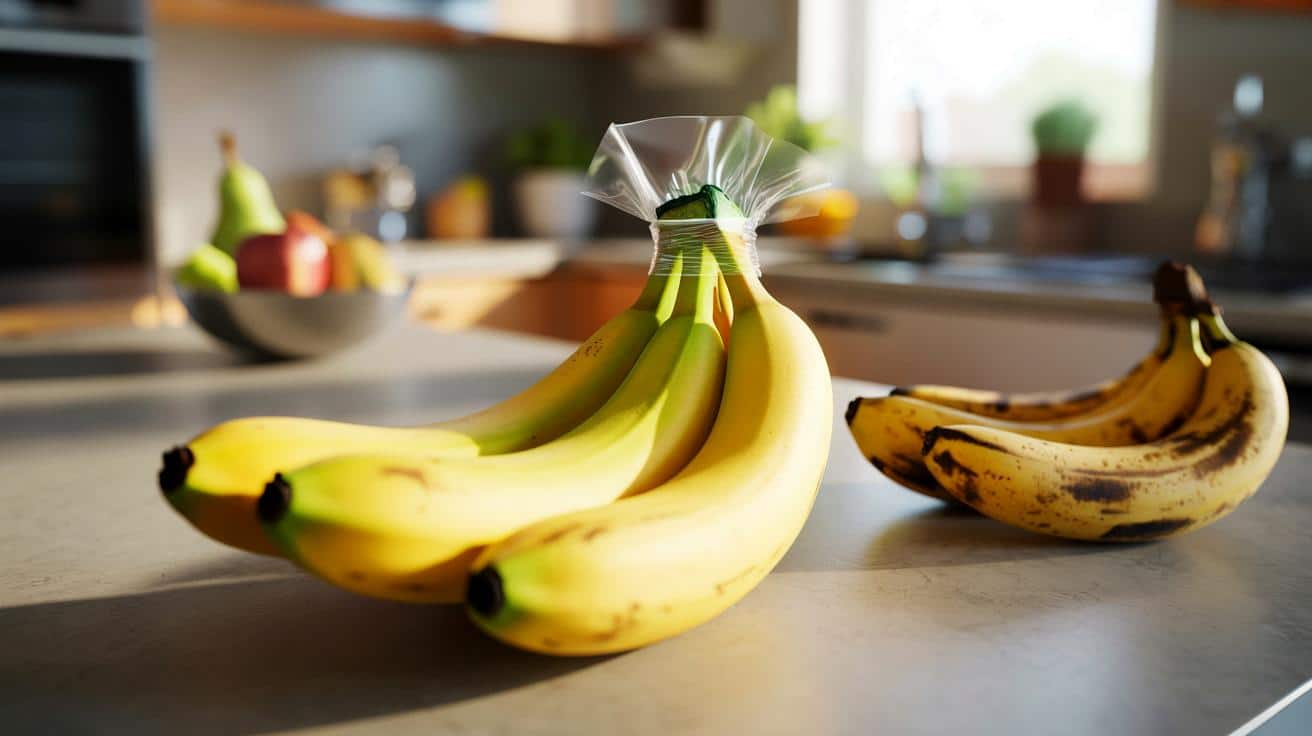banana: (152, 155, 846, 682), (842, 274, 1302, 567)
